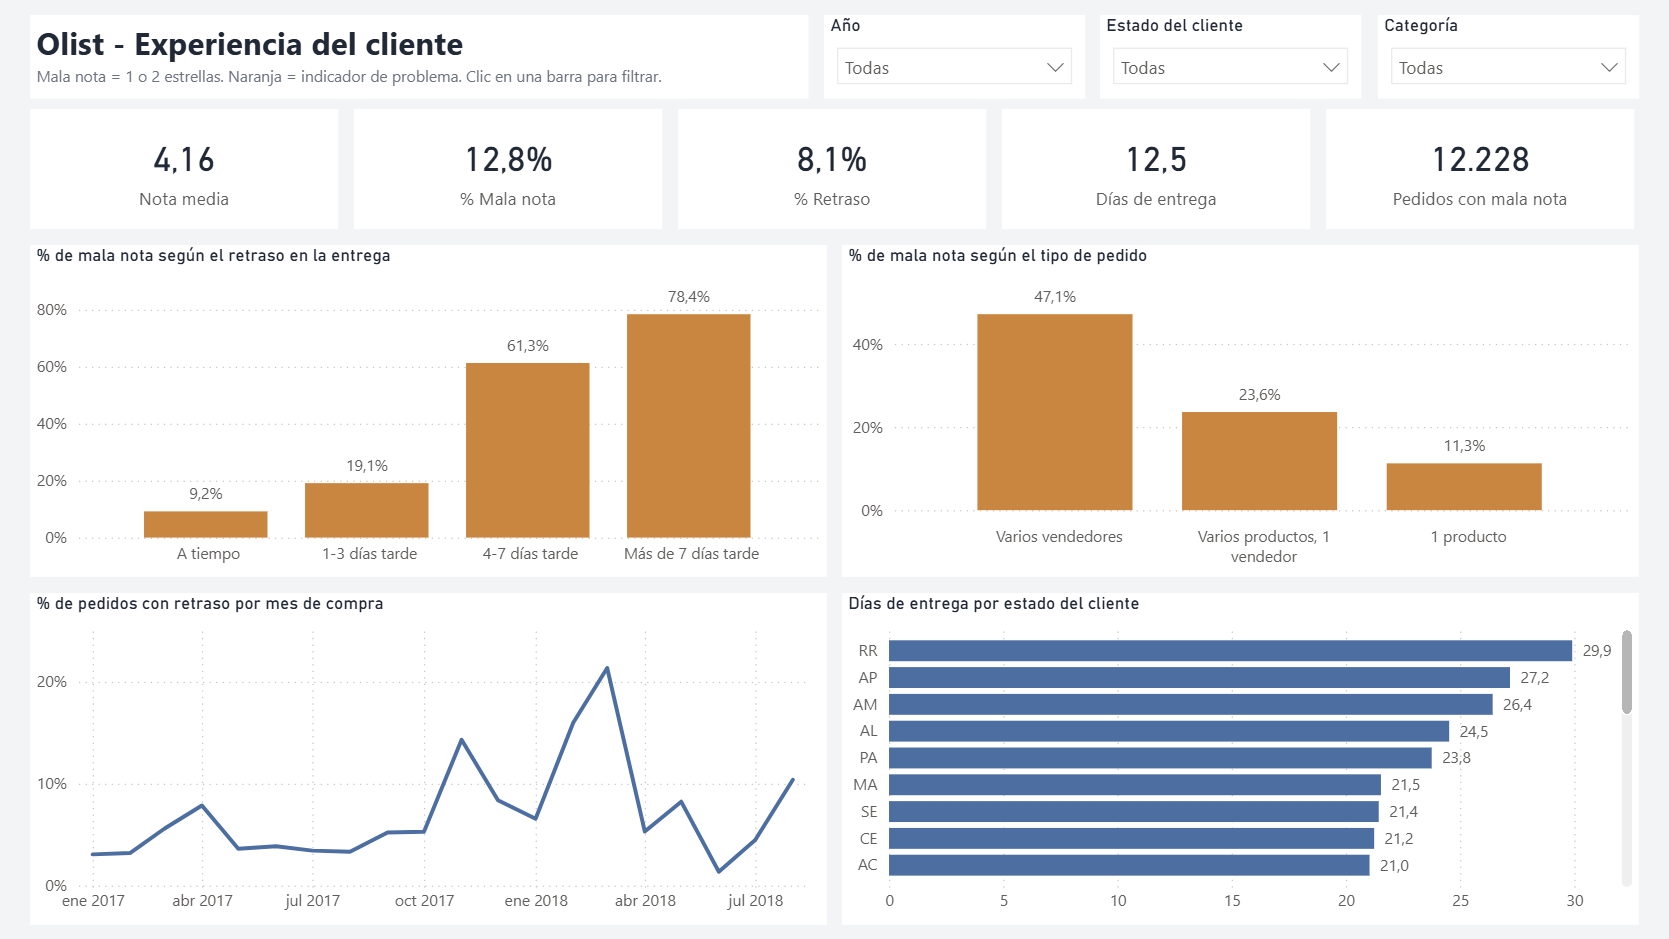

This screenshot's page, from the dashboard's own definition file:
{"tool":"powerbi","page":{"name":"Experiencia del cliente","canvas":[1280,720],"ordinal":1},"visuals":[{"type":"textbox","box":[24,12,596,64],"z":0},{"type":"slicer","title":"Año","fields":{"Values":["Calendario.Año"]},"box":[632,12,200,64],"z":1},{"type":"slicer","title":"Estado del cliente","fields":{"Values":["Pedidos.customer_state"]},"box":[844,12,200,64],"z":2},{"type":"slicer","title":"Categoría","fields":{"Values":["Pedidos.categoria_principal"]},"box":[1056,12,200,64],"z":3},{"type":"card","fields":{"Values":["Pedidos.Nota media"]},"box":[24,84,236,92],"z":4},{"type":"card","fields":{"Values":["Pedidos.% Mala nota"]},"box":[272,84,236,92],"z":5},{"type":"card","fields":{"Values":["Pedidos.% Retraso"]},"box":[520,84,236,92],"z":6},{"type":"card","fields":{"Values":["Pedidos.Días de entrega"]},"box":[768,84,236,92],"z":7},{"type":"card","fields":{"Values":["Pedidos.Pedidos con mala nota"]},"box":[1016,84,236,92],"z":8},{"type":"columnChart","title":"% de mala nota según el retraso en la entrega","fields":{"Category":["Pedidos.tramo_entrega"],"Y":["Pedidos.% Mala nota"]},"box":[24,188,610,254],"z":9},{"type":"columnChart","title":"% de mala nota según el tipo de pedido","fields":{"Category":["Pedidos.tipo_pedido"],"Y":["Pedidos.% Mala nota"]},"box":[646,188,610,254],"z":10},{"type":"lineChart","title":"% de pedidos con retraso por mes de compra","fields":{"Category":["Calendario.Mes"],"Y":["Pedidos.% Retraso"]},"box":[24,454,610,254],"z":11},{"type":"barChart","title":"Días de entrega por estado del cliente","fields":{"Category":["Pedidos.customer_state"],"Y":["Pedidos.Días de entrega"]},"box":[646,454,610,254],"z":12}]}

Visuals, with their boxes in screenshot pixels (x1, y1, x2, y2), scaled from the page's 1280x720 canvas onto the 1669x939 screenshot:
textbox: 31 16 808 99
"Año" slicer: 824 16 1085 99
"Estado del cliente" slicer: 1100 16 1361 99
"Categoría" slicer: 1377 16 1638 99
card - Pedidos.Nota media: 31 110 339 230
card - Pedidos.% Mala nota: 355 110 662 230
card - Pedidos.% Retraso: 678 110 986 230
card - Pedidos.Días de entrega: 1001 110 1309 230
card - Pedidos.Pedidos con mala nota: 1325 110 1632 230
"% de mala nota según el retraso en la entrega" columnChart: 31 245 827 576
"% de mala nota según el tipo de pedido" columnChart: 842 245 1638 576
"% de pedidos con retraso por mes de compra" lineChart: 31 592 827 923
"Días de entrega por estado del cliente" barChart: 842 592 1638 923
